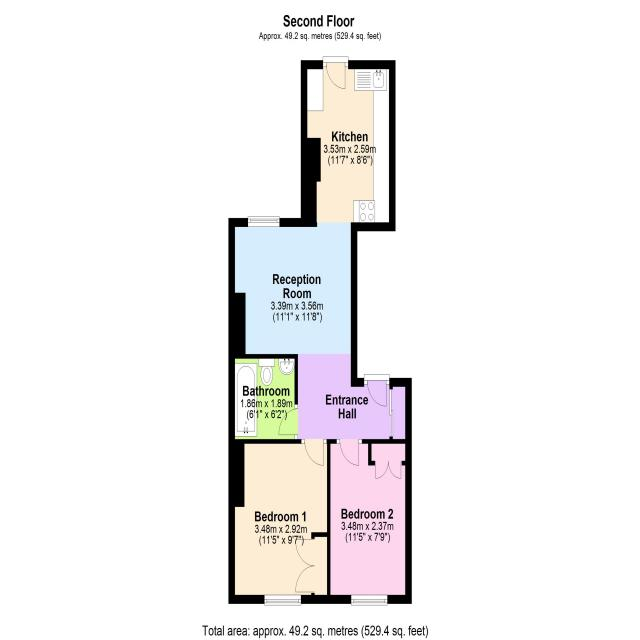DOOR: (277, 408, 299, 437), (325, 61, 346, 90), (366, 379, 387, 408), (339, 438, 360, 467), (303, 439, 324, 467)
DOUBLE DOOR: (374, 461, 402, 480)
ROOM: (228, 55, 412, 466), (228, 439, 331, 606), (327, 439, 413, 606)
WINDOW: (264, 594, 302, 606), (351, 594, 388, 605), (247, 216, 280, 228)
